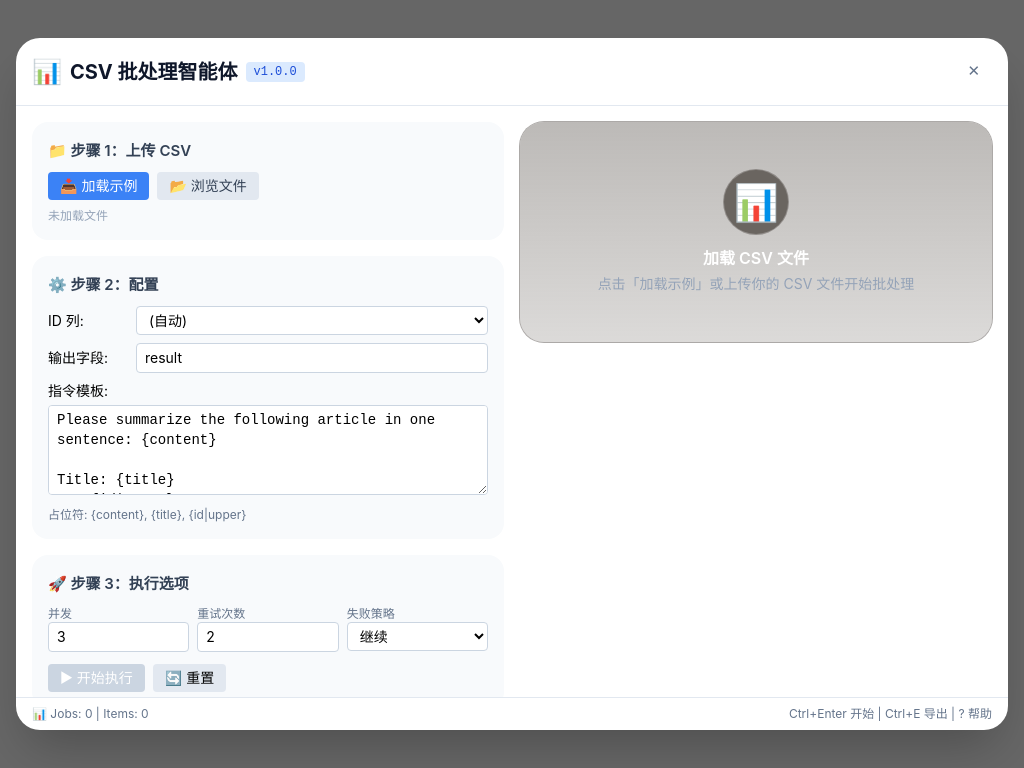
CsvBatchPanel › 加载示例 CSV
This screenshot has width=1024, height=768.
Click the button with test id "load-sample-btn": [99, 186] box top-left (48, 172), bottom-right (149, 200)
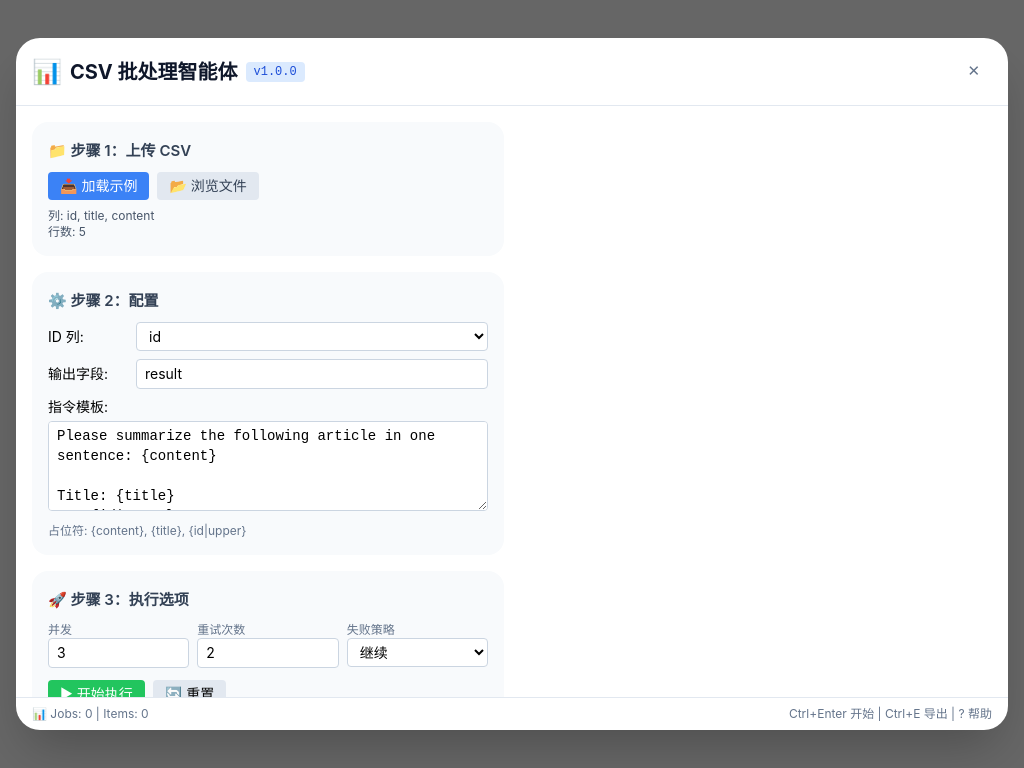
Expected: the text "行数: 5" is shown, top-left (48, 224), bottom-right (86, 239)
